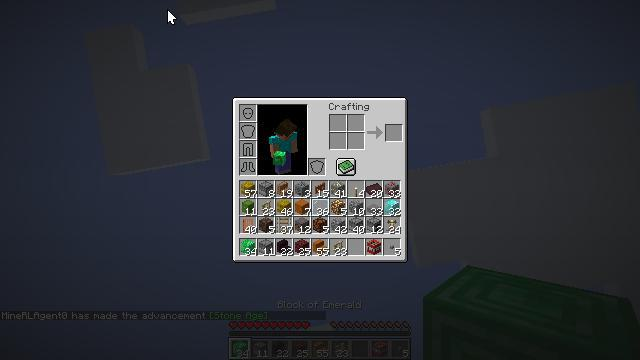cursor: (9, 167, 25, 177)
